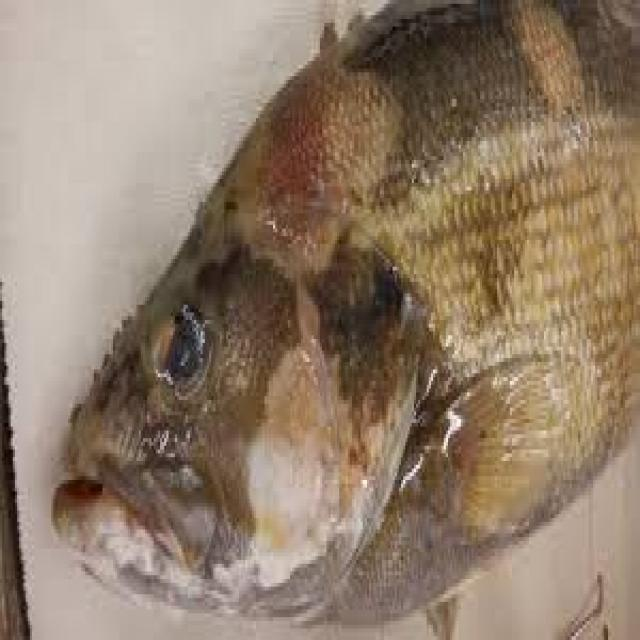EUS Disease: (58, 7, 640, 610)
